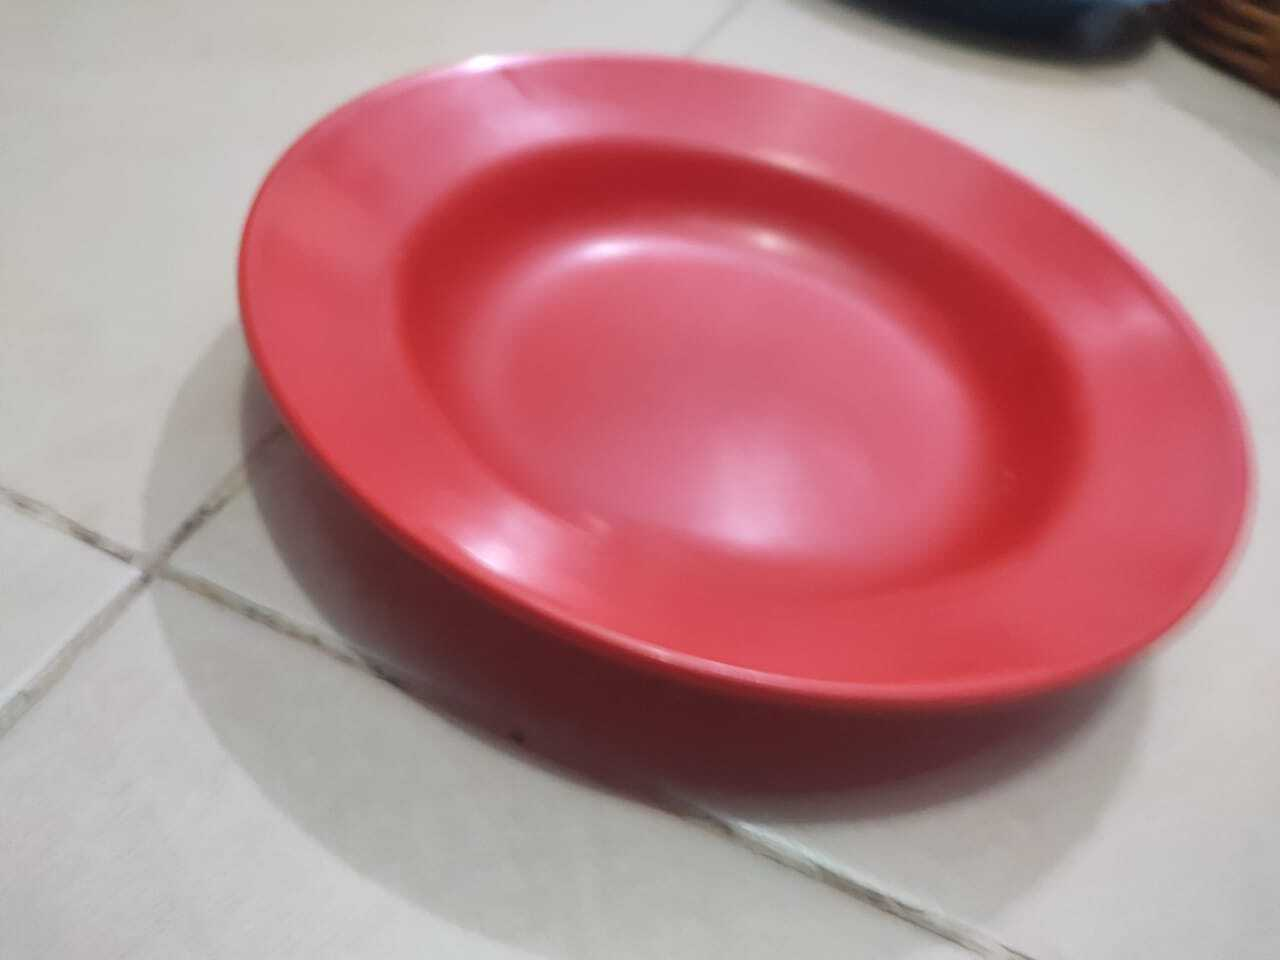piring: (237, 47, 1248, 701)
